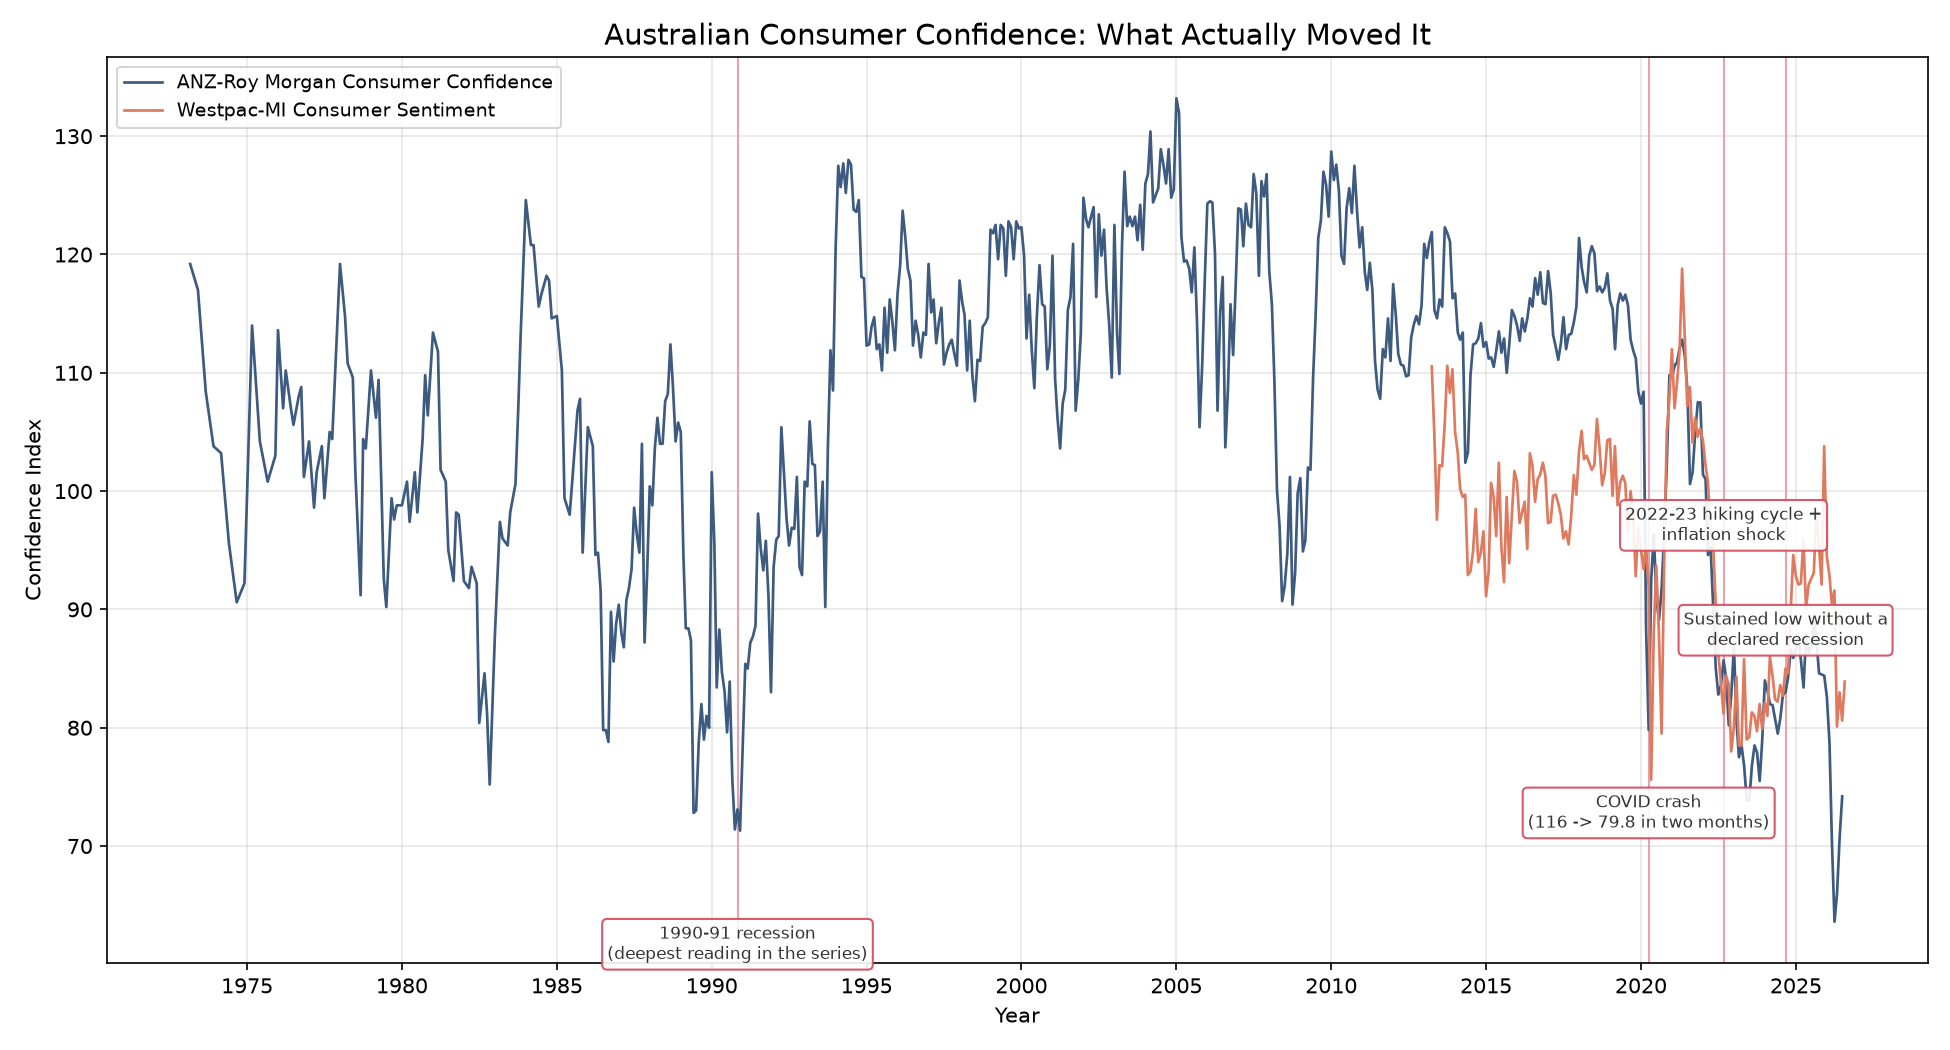

What the dashboard file says about the page in this screenshot:
{"tool":"tableau","page":{"name":"Dashboard 1","canvas":[1200,700],"ordinal":0},"visuals":[{"type":"worksheet","title":"consumer-confidence","mark":"Line","cols":["date"],"box":[8,8,1024,684]},{"type":"legend","title":"consumer-confidence","param":"[federated.16z1r6t0gaf3ny17luwx31begjxi].[:Measure Names]","box":[1032,8,160,66]},{"type":"worksheet","title":"recessions","mark":"GanttBar","cols":["start_date"],"box":[72,57,959,575]},{"type":"text","box":[1032,74,160,112]}]}

Visuals, with their boxes on the page's 1200x700 design canvas (x1, y1, x2, y2). These are canvas units, not pixel positions in the 1950x1050 screenshot, which may show the page scaled, cropped or inside an application window:
"consumer-confidence" worksheet (Line marks): <region>8, 8, 1032, 692</region>
"consumer-confidence" legend: <region>1032, 8, 1192, 74</region>
"recessions" worksheet (GanttBar marks): <region>72, 57, 1031, 632</region>
text: <region>1032, 74, 1192, 186</region>
